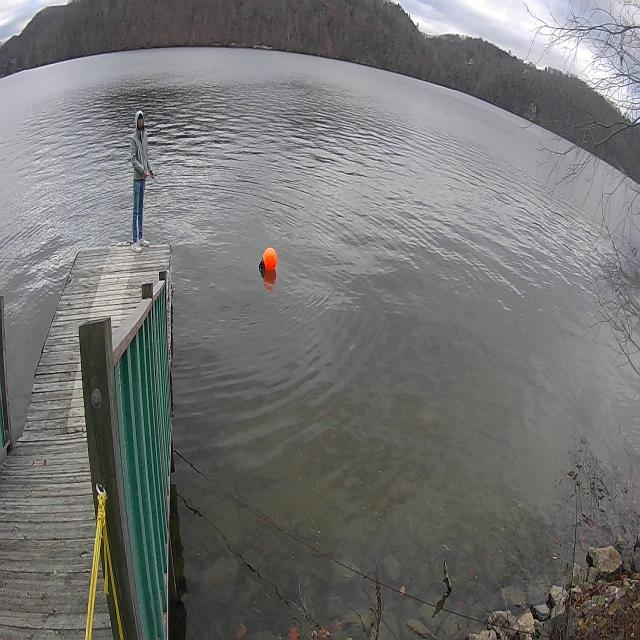Buoy: (256, 243, 286, 283)
